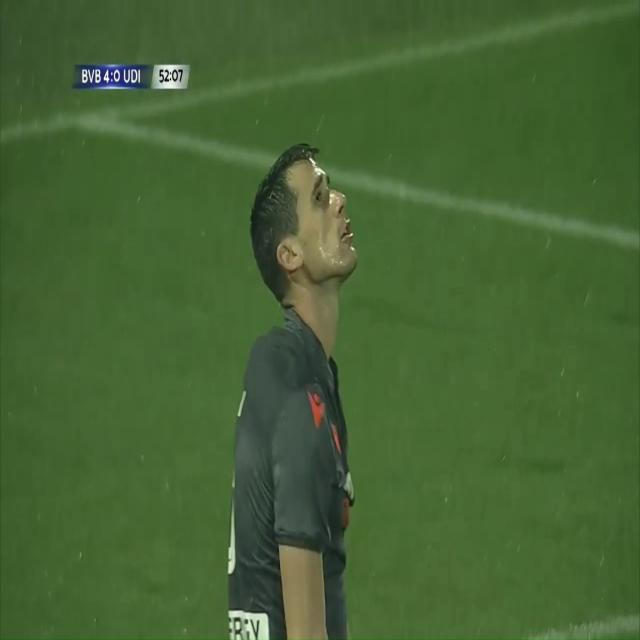player: (223, 128, 364, 640)
